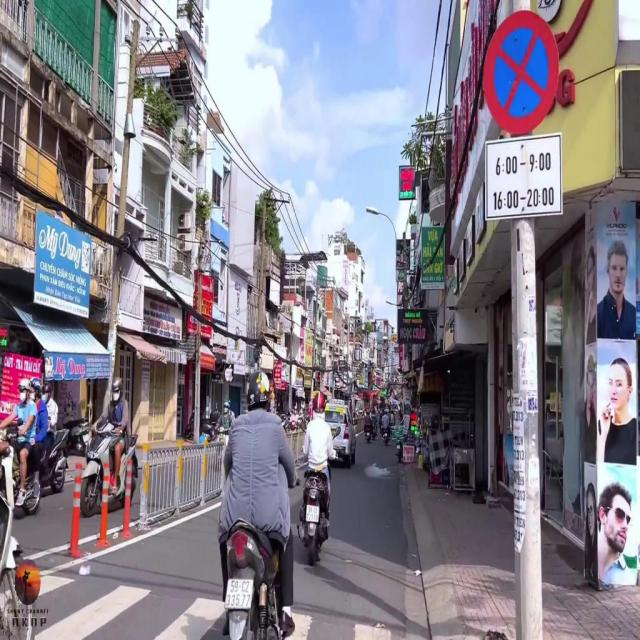cam_dung_xe_va_do_xe: (483, 9, 559, 134)
khac: (486, 133, 562, 219)
